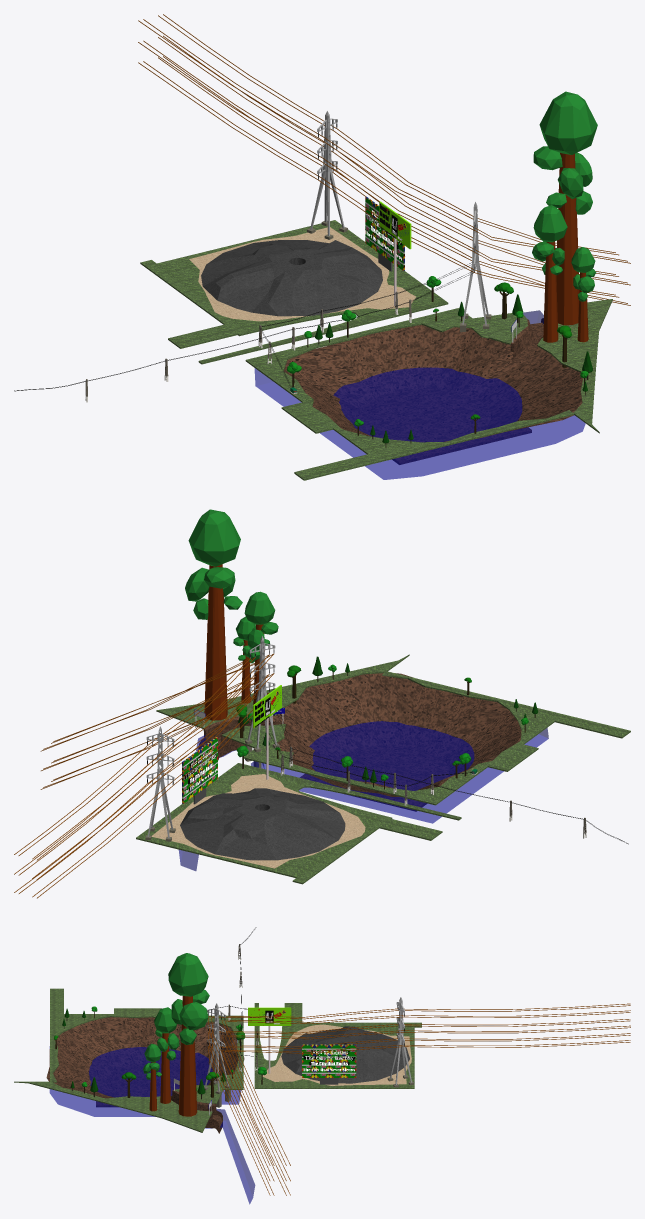
File: Lake.glb
3 renders of one model, top to bottom at view 1: azimuth 30°, elevation 25°; view 2: azimuth 150°, elevation 25°; view 3: azimuth 270°, elevation 25°, orthographic. The views are drawn at different scales.
Visible parts, largest first — view 1: Lake Edges, Water Surface, Geyser Ground, Ground.001, Ground, Leaves, Lake Bottom, Trunk.005, Wires, Wires.001, Wires.002, Tower (+5 smaller); view 2: Lake Edges, Water Surface, Geyser Ground, Ground.001, Ground, Leaves, Lake Bottom, Trunk.005, Wires.002, Wires, Wires.001, Billboard (+6 smaller); view 3: Lake Edges, Water Surface, Ground.001, Leaves, Ground, Geyser Ground, Wires, Wires.001, Trunk.005, Wires.002, Billboard, Lake Bottom (+5 smaller).
Boxes of the visible parts, bbox=[...] form: Lake Edges: bbox=[284, 325, 583, 441]; Water Surface: bbox=[254, 310, 585, 479]; Geyser Ground: bbox=[201, 240, 382, 316]; Ground.001: bbox=[245, 299, 612, 480]; Ground: bbox=[140, 220, 448, 364]; Leaves: bbox=[287, 91, 597, 443]; Lake Bottom: bbox=[359, 389, 531, 464]; Trunk.005: bbox=[543, 153, 588, 342]; Wires: bbox=[138, 14, 336, 179]; Wires.001: bbox=[318, 128, 474, 272]; Wires.002: bbox=[474, 218, 630, 305]; Tower: bbox=[310, 111, 344, 235]; Lake Edges: bbox=[268, 673, 521, 797]; Water Surface: bbox=[178, 721, 548, 870]; Geyser Ground: bbox=[180, 788, 345, 860]; Ground.001: bbox=[156, 654, 630, 805]; Ground: bbox=[136, 763, 461, 884]; Leaves: bbox=[185, 509, 537, 782]; Lake Bottom: bbox=[300, 746, 448, 811]; Trunk.005: bbox=[204, 564, 265, 720]; Wires.002: bbox=[40, 654, 273, 789]; Wires: bbox=[14, 745, 173, 898]; Wires.001: bbox=[148, 654, 274, 785]; Billboard: bbox=[182, 736, 217, 804]; Lake Edges: bbox=[46, 1017, 244, 1098]; Water Surface: bbox=[49, 1040, 255, 1204]; Ground.001: bbox=[14, 988, 243, 1132]; Leaves: bbox=[54, 953, 266, 1094]; Ground: bbox=[254, 1003, 421, 1088]; Geyser Ground: bbox=[281, 1026, 409, 1083]; Wires: bbox=[397, 1003, 630, 1047]; Wires.001: bbox=[208, 1008, 404, 1053]; Trunk.005: bbox=[149, 996, 197, 1116]; Wires.002: bbox=[208, 1017, 290, 1195]; Billboard: bbox=[302, 1044, 356, 1084]; Lake Bottom: bbox=[96, 1063, 199, 1106].
Size of the model in its own units: 144 by 78.6 by 174.
43 materials, 5 textured.
